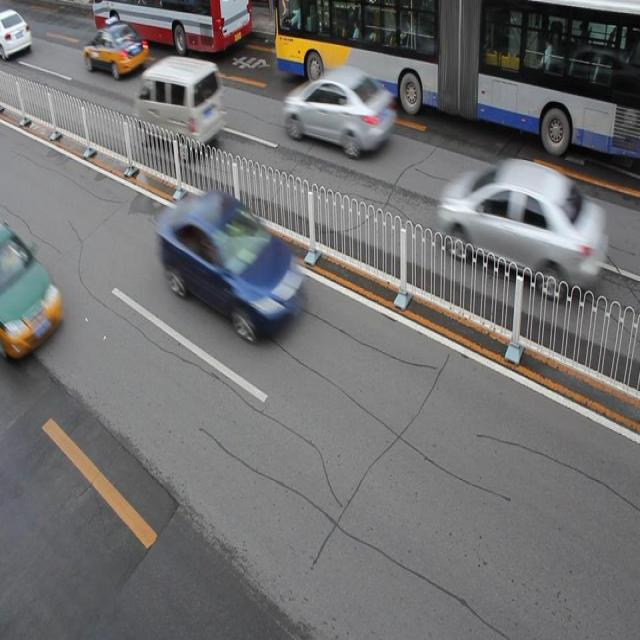car: (438, 156, 604, 294), (161, 192, 301, 332), (285, 64, 395, 156), (1, 229, 64, 360), (84, 24, 149, 79), (1, 10, 32, 60)
truck: (136, 54, 224, 157)
van: (274, 1, 640, 157), (93, 1, 251, 57)
